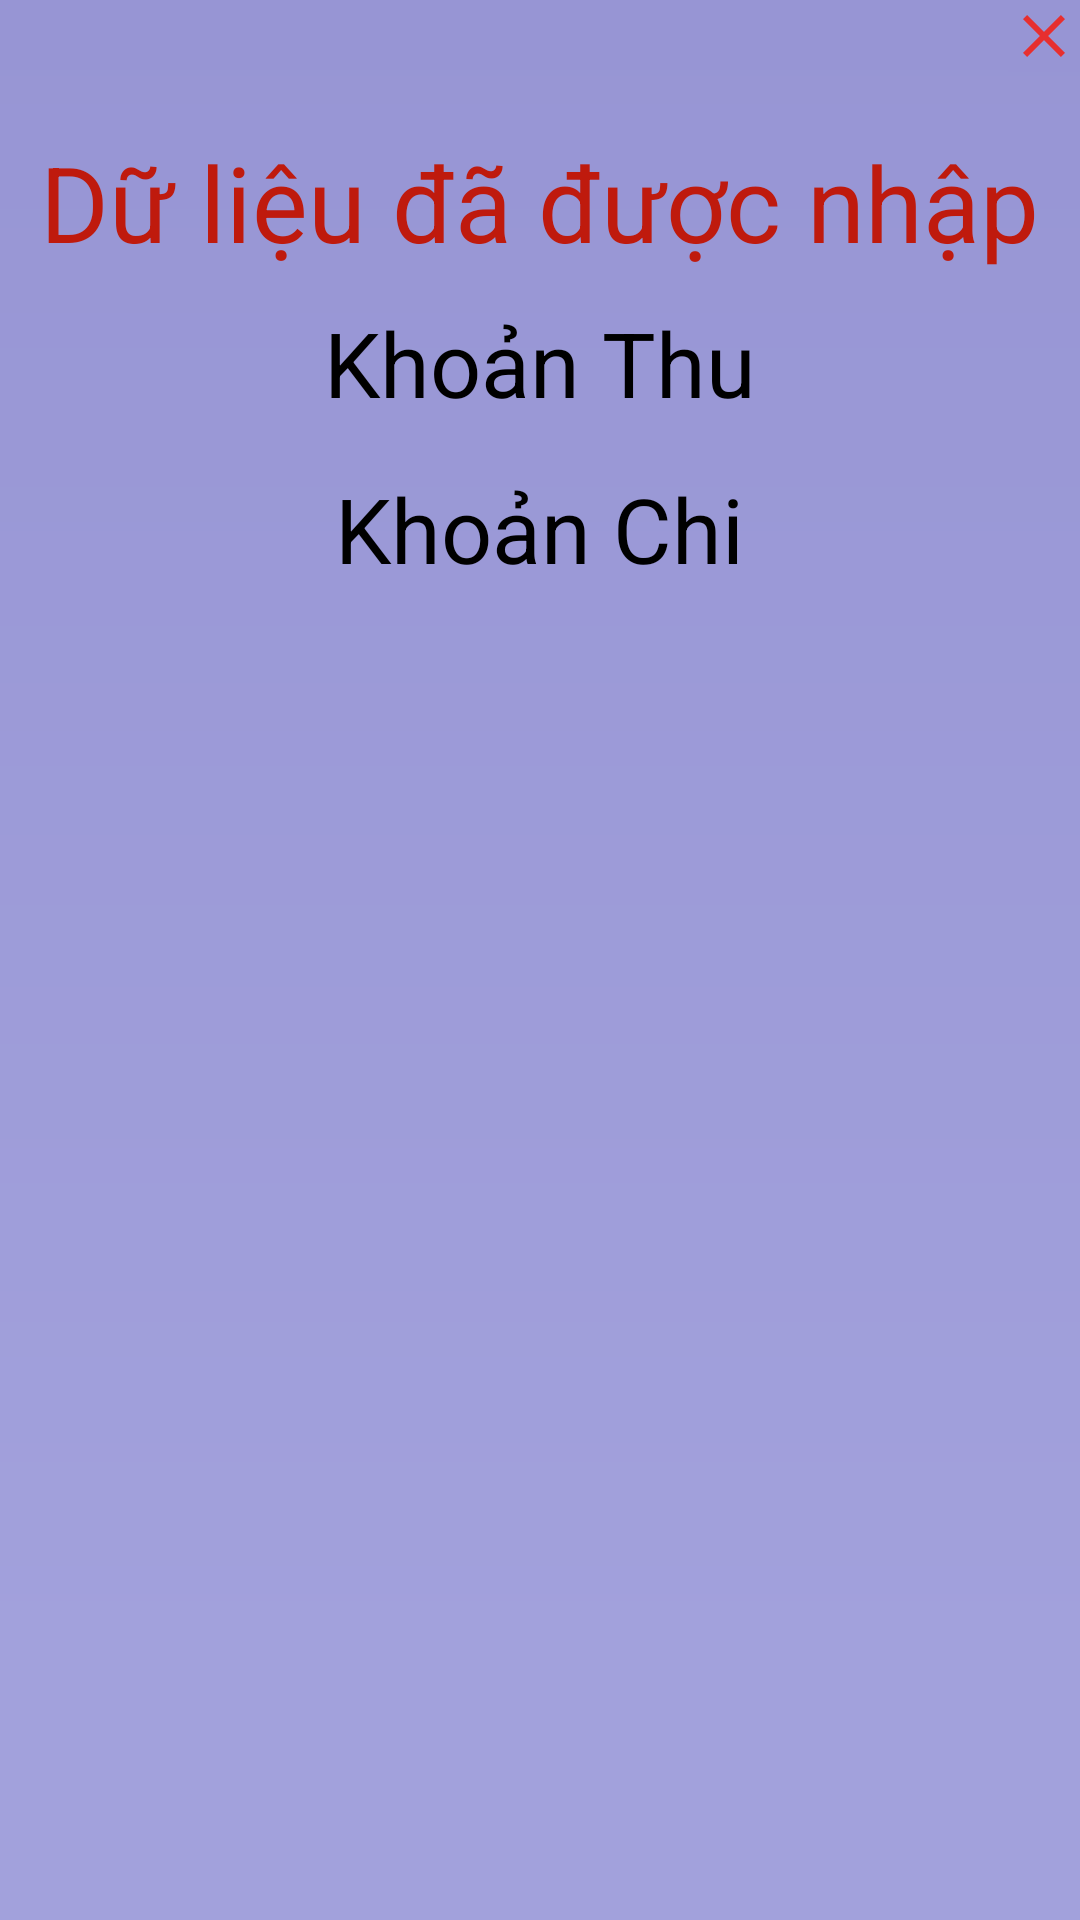

Icon bounding boxes for this 1080w x 1920h phone screenshot, format (x1, y1, x2, y2):
close: (1023, 15, 1065, 57)
